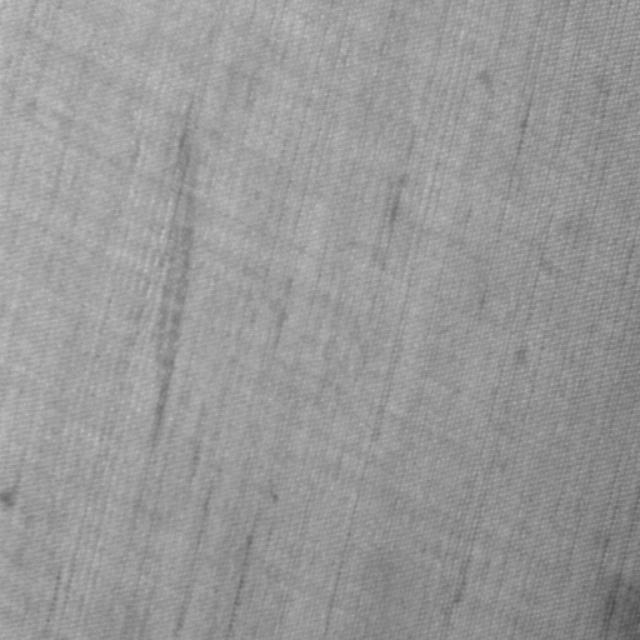oil spot: (140, 91, 204, 459), (600, 569, 639, 639)
